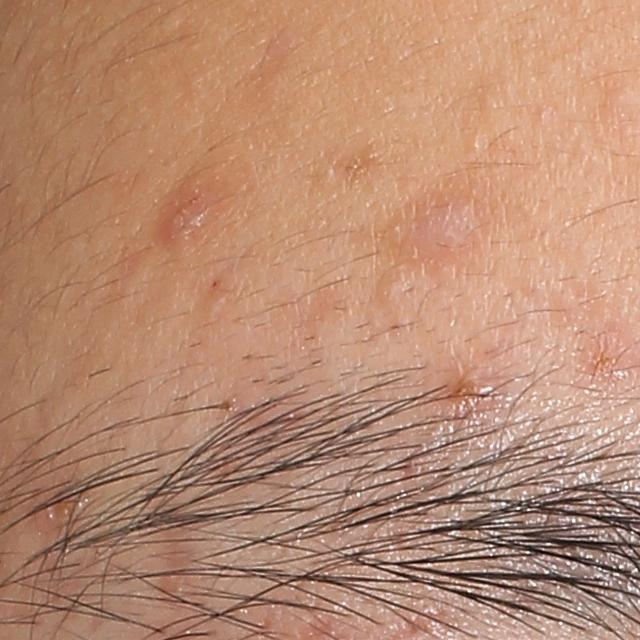comedo: (374, 277, 410, 305)
